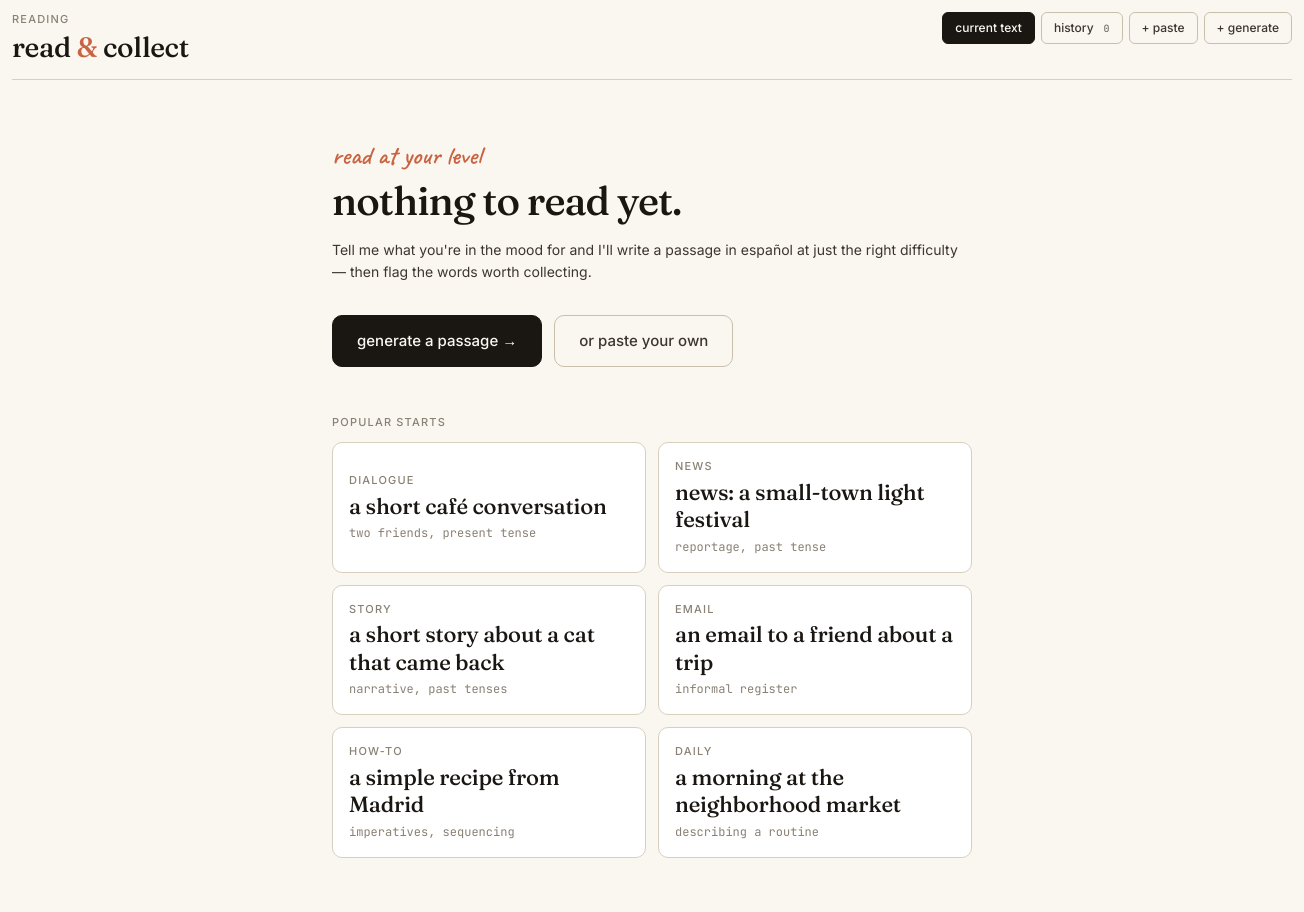
ReadPage — generate flow › clicking "generate a text" from the EmptyView opens the GenerateView
Click the button "+ generate".
click(1248, 28)  # box [1204, 12, 1292, 44]
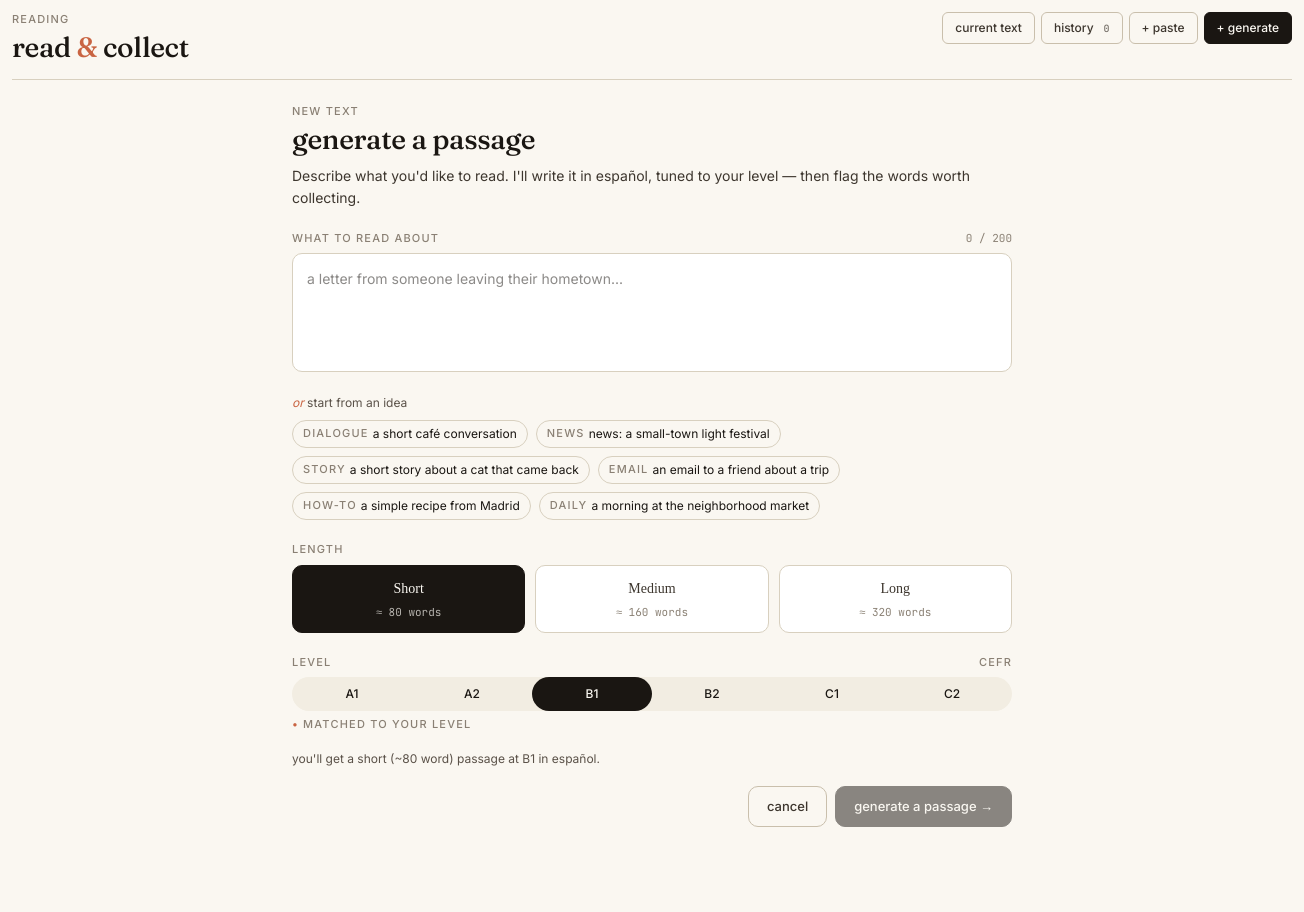
Expected: the button "generate a passage →" is shown, [835, 786, 1012, 827]
Expected: the heading "generate a passage" is shown, [292, 122, 535, 156]
